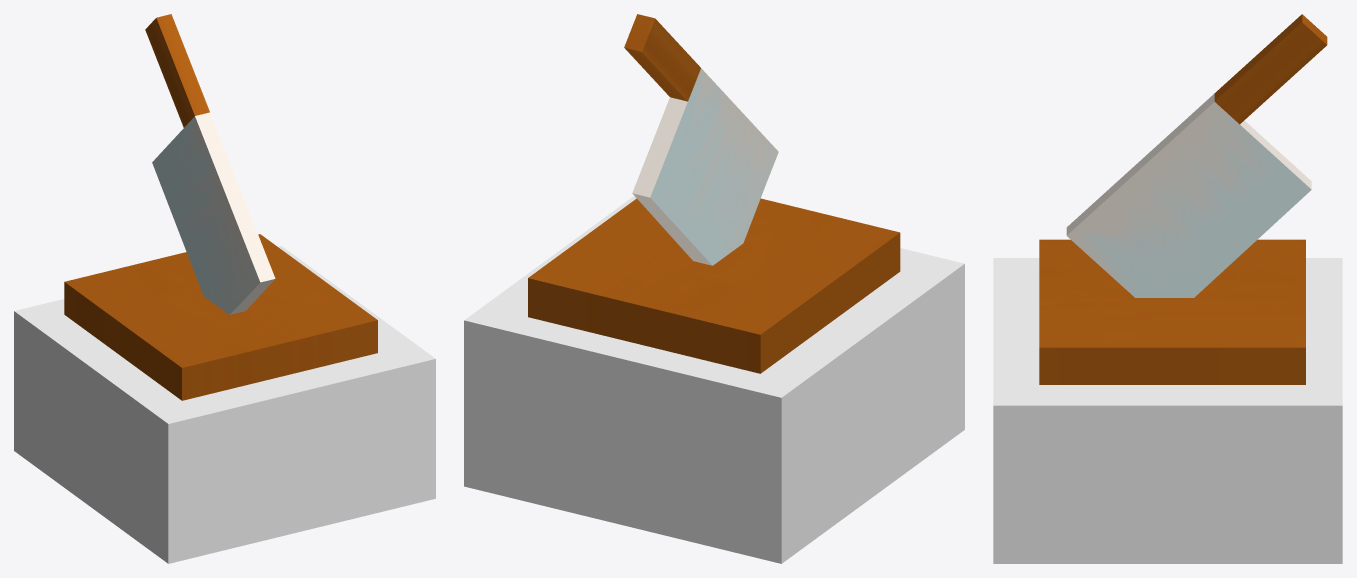
File: Knife.obj
3 views of the same model, side by side, from view 1: azimuth 30°, elevation 25°; view 2: azimuth 150°, elevation 25°; view 3: azimuth 270°, elevation 25° (orthographic). The views are drawn at different scales.
Parts seen in each view (by area): view 1: polySurface1; view 2: polySurface1; view 3: polySurface1.
Part boxes in pixels (x1,y1,x2,y2): polySurface1: [14, 14, 435, 563]; polySurface1: [464, 14, 964, 563]; polySurface1: [993, 14, 1342, 563].
Bounding box in the file's own units: 1 × 1.49 × 1.
Materials: 1 (1 with a texture image).
